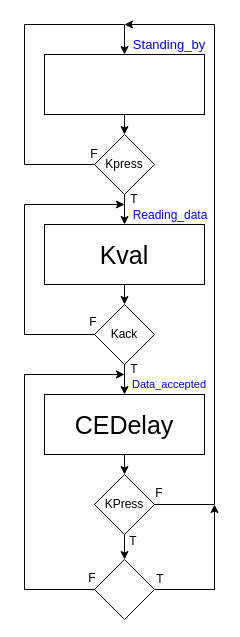
This 240x637 diagram has some shape labels left out. The shapes that lost their labels are listed below. From the top down, each one's centre as x and y in pixels, then its label:
At (124,84): "KScan reset_delay".
At (124,589): "delay_out".
